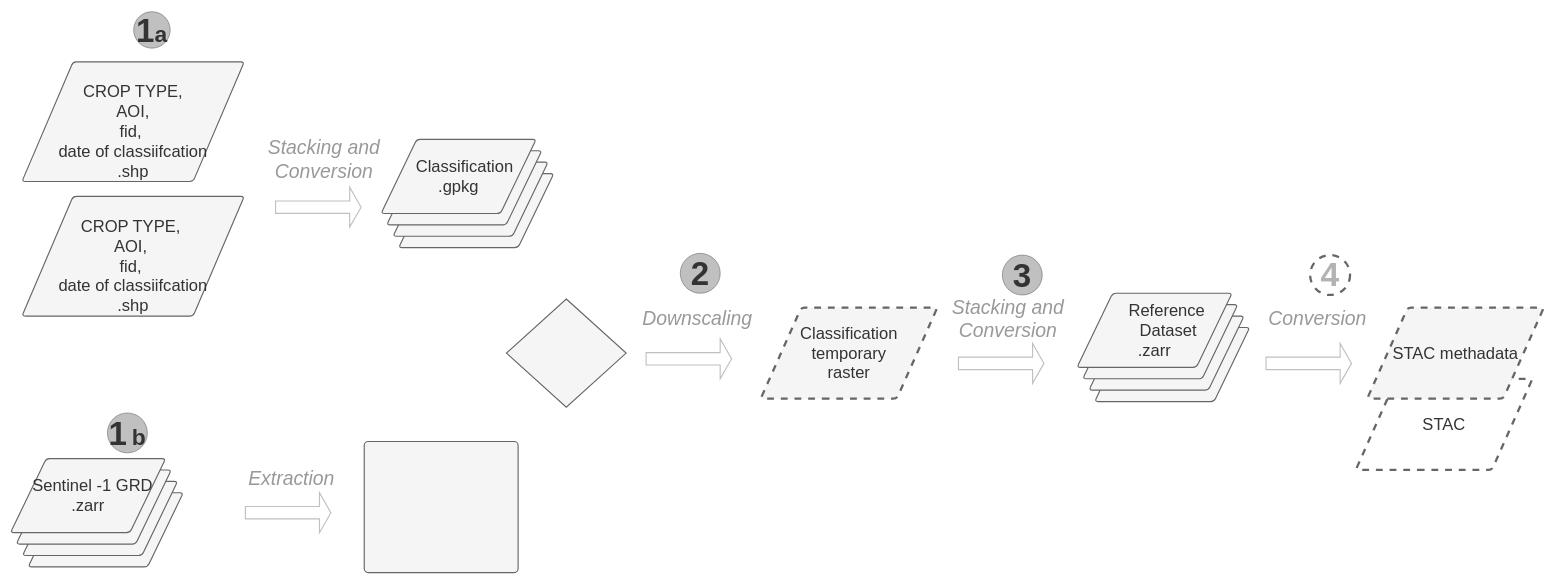
The diagram is 1554 pixels wide and 583 high, and some of its shapes have lost their labels. Each missing label, with the centre of its shape:
Sentinel-1 Grid .gpkg: the point at 440,507
Zonal Statistic: the point at 566,353
